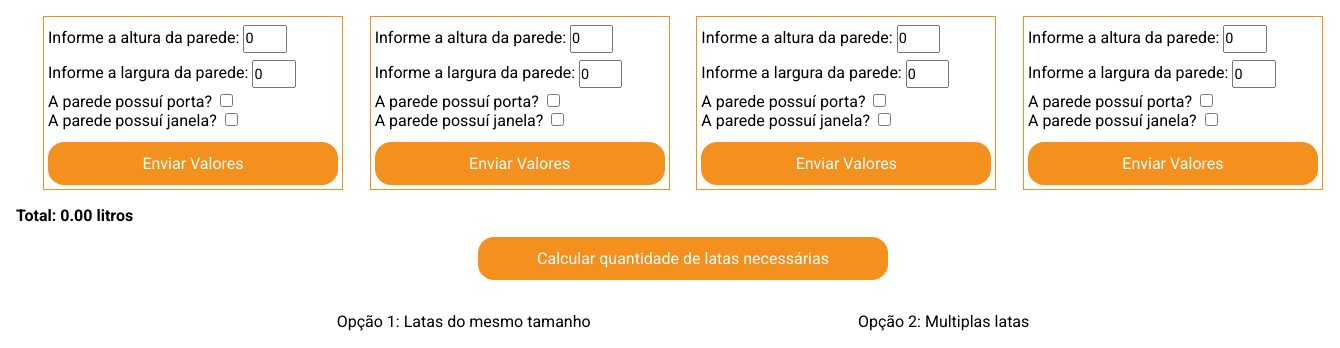
Scenario: se os inputs forem preenchidos corretamente, o valor total muda › preenche os valores de uma parede e checa o total
Expected: the heading "Total: 0.00 litros" is shown, [16,206,133,225]
Type "3" into the number field labelled "Informe a altura da parede:" at {"x": 265, "y": 39}, box [243,25,287,53]
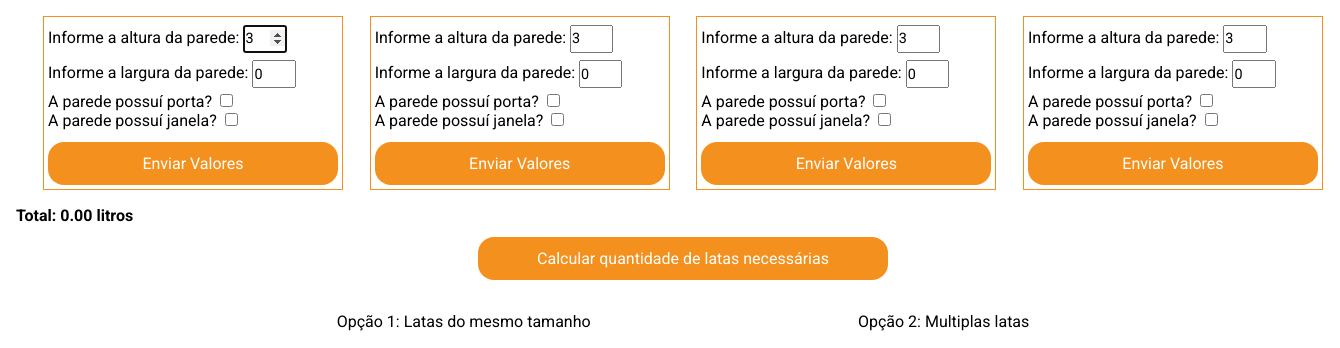
Type "5" into the number field labelled "Informe a largura da parede:" at {"x": 274, "y": 74}, box [252,60,296,88]
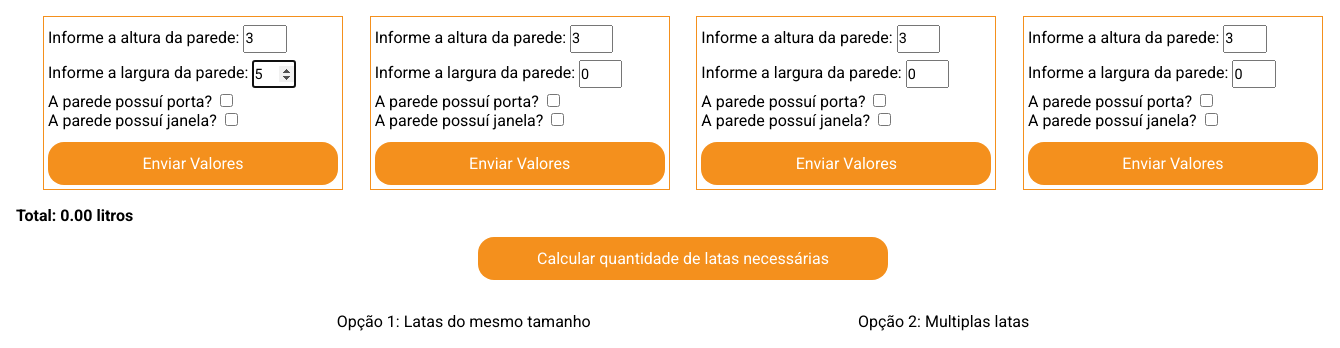
Click the 1st button "Enviar Valores" at {"x": 193, "y": 163}, box [48,142,338,185]
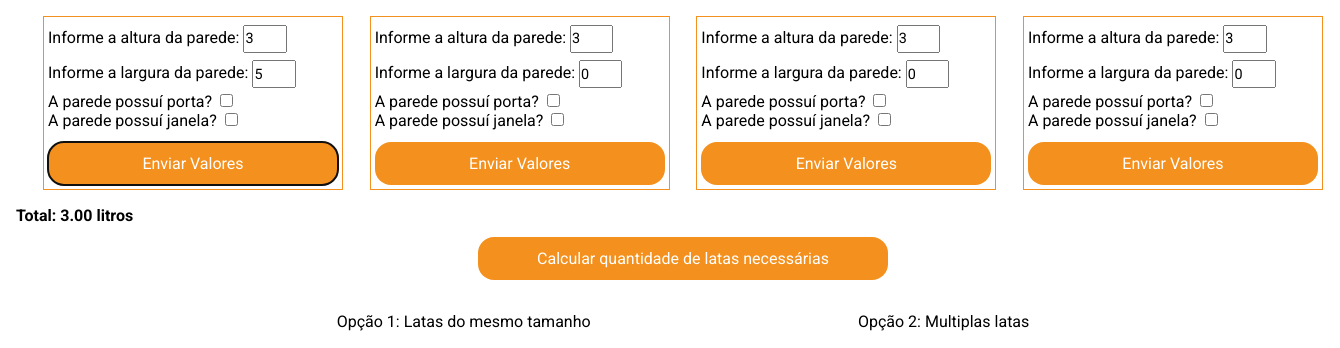
Expected: the heading "Total: 3.00 litros" is shown, [16,206,133,225]
